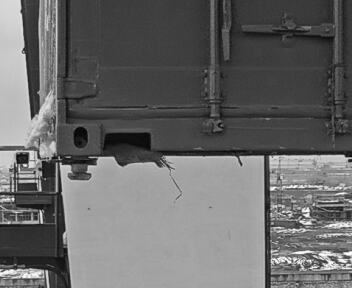twist_lock_1: (54, 151, 102, 187)
